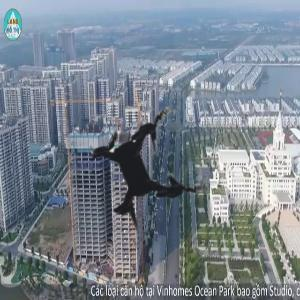drone: (43, 67, 245, 269)
